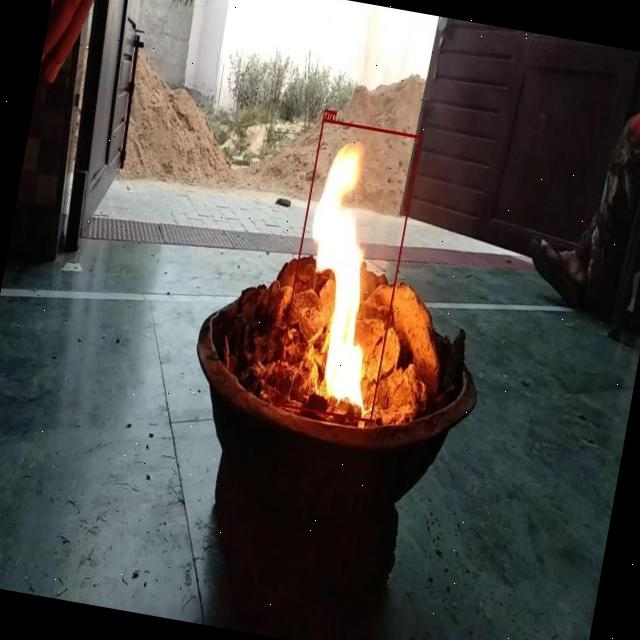fire: (272, 118, 421, 422)
